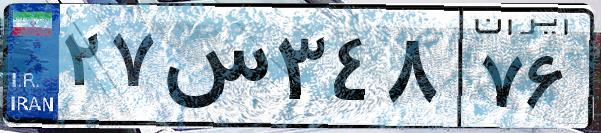2: (57, 26, 110, 100)
3: (270, 28, 330, 110)
4: (330, 28, 385, 110)
6: (525, 38, 570, 115)
7: (475, 38, 525, 113), (110, 28, 158, 98)
8: (385, 28, 445, 110)
س: (158, 20, 270, 120)
